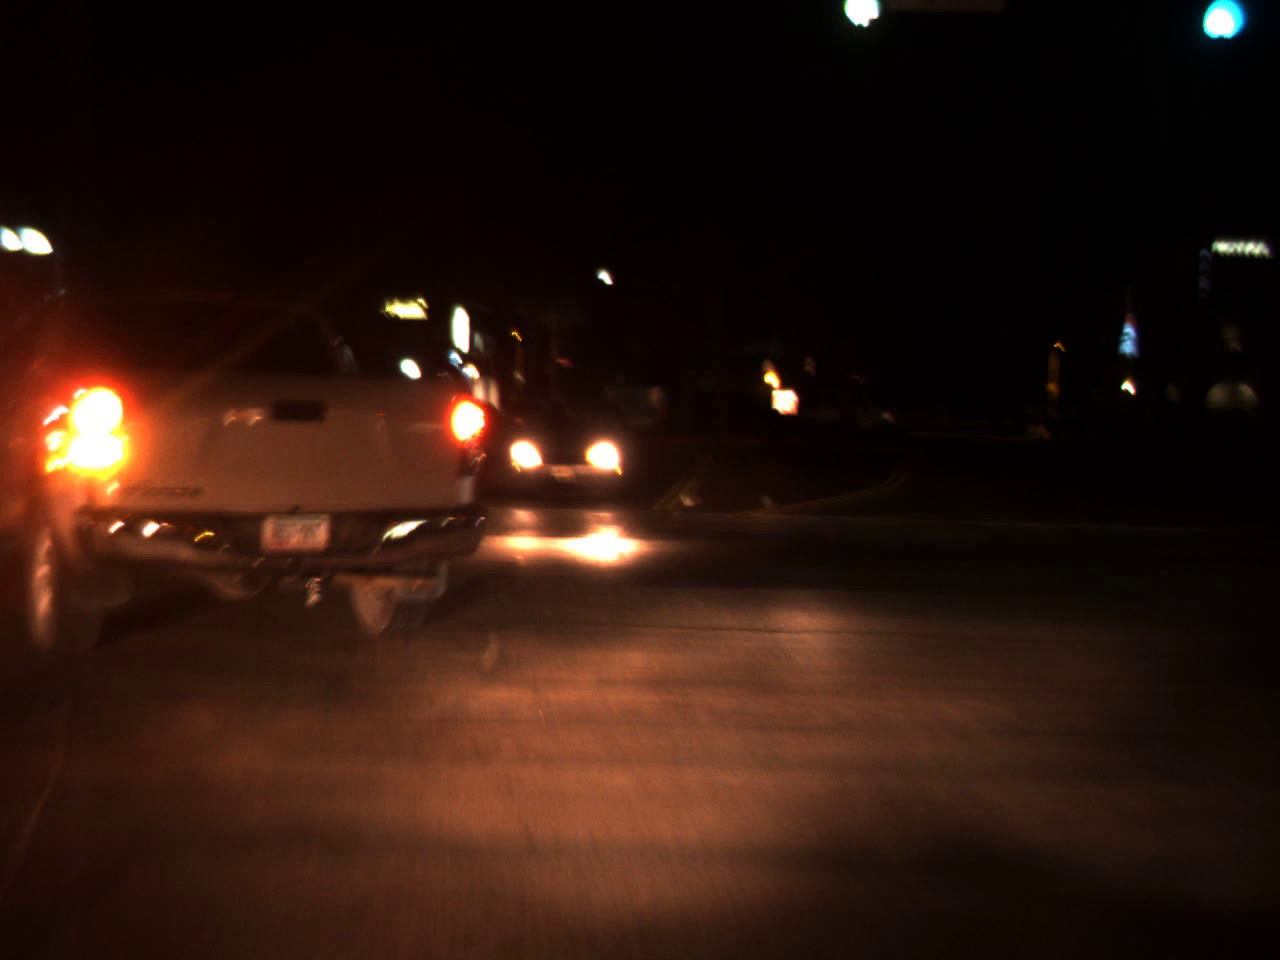go: (826, 0, 890, 39), (1192, 0, 1242, 47)
